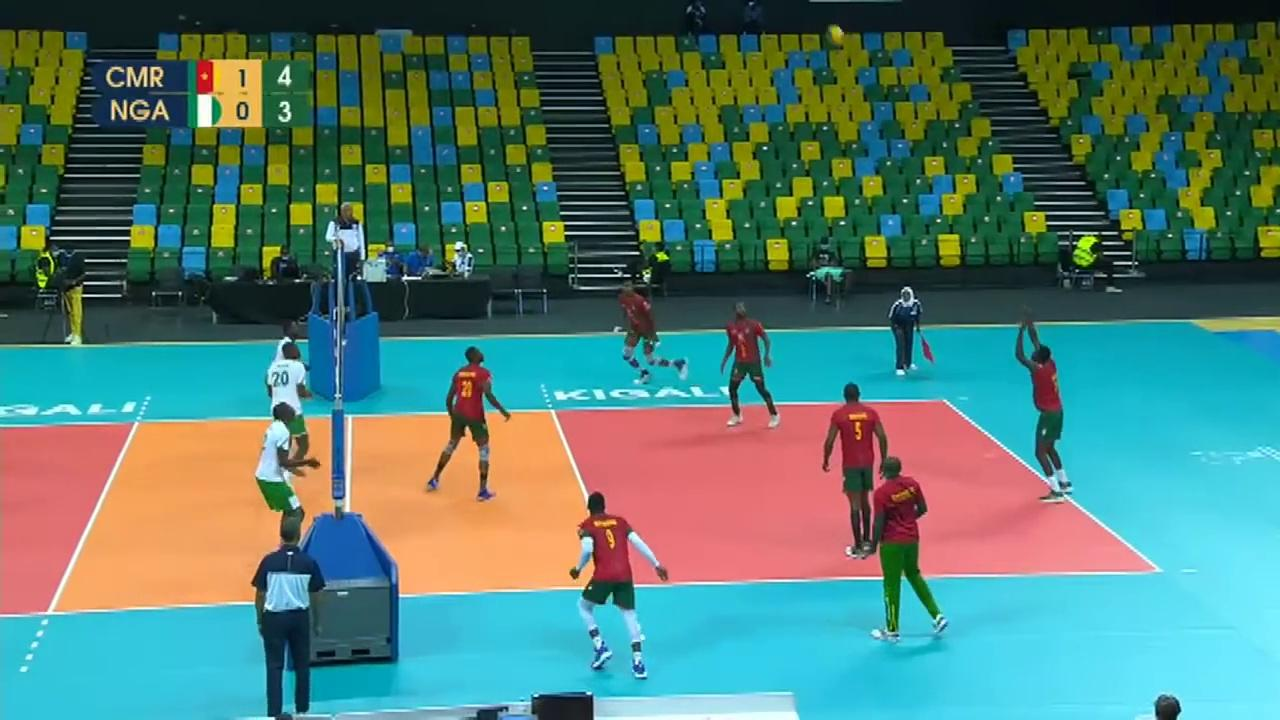player: (571, 495, 672, 677), (420, 349, 509, 496), (821, 384, 892, 554), (1017, 316, 1067, 495), (256, 401, 315, 547), (615, 284, 687, 388), (721, 304, 779, 427), (269, 339, 312, 483), (269, 318, 306, 447)
refree: (250, 522, 330, 714), (323, 196, 370, 314), (890, 286, 934, 375)
